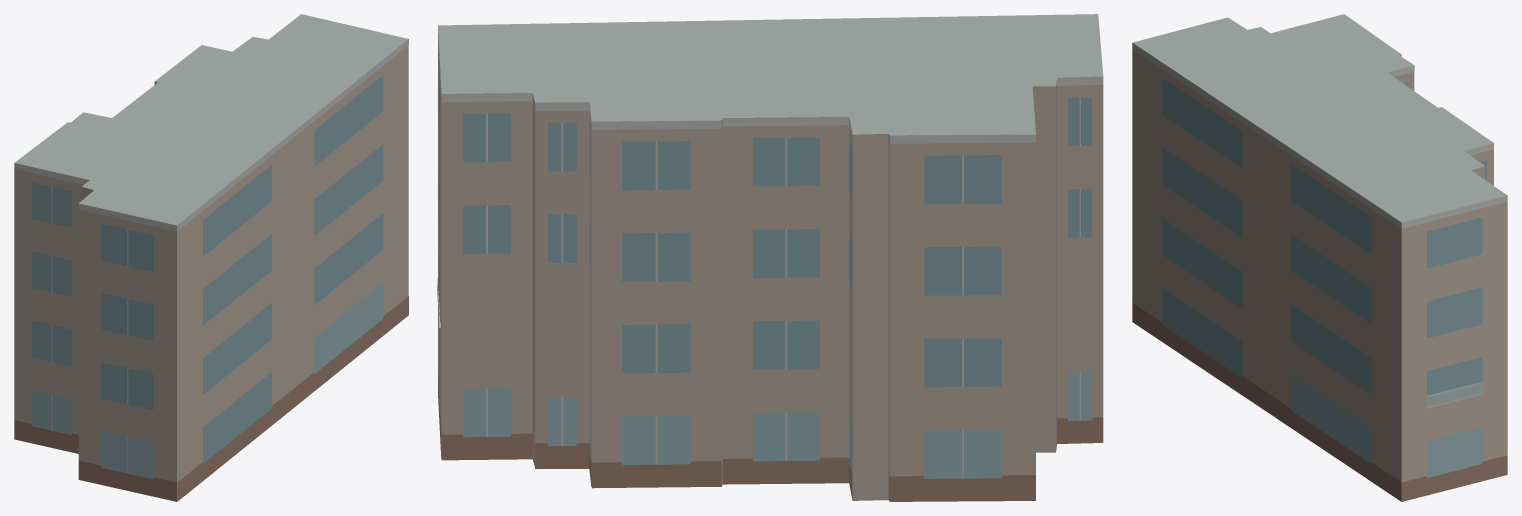
File: survey-upis-32489217.glb
3 renders of one model, left to right at view 1: azimuth 30°, elevation 25°; view 2: azimuth 150°, elevation 25°; view 3: azimuth 270°, elevation 25°, orthographic. The views are drawn at different scales.
Parts seen in each view (by area): view 1: survey-upis-32489217.tmp; view 2: survey-upis-32489217.tmp; view 3: survey-upis-32489217.tmp.
Boxes of the visible parts, bbox=[...] form: survey-upis-32489217.tmp: bbox=[14, 14, 408, 501]; survey-upis-32489217.tmp: bbox=[437, 14, 1103, 501]; survey-upis-32489217.tmp: bbox=[1132, 14, 1507, 501].
Bounding box in the file's own units: 17.38 × 10.85 × 13.22.
